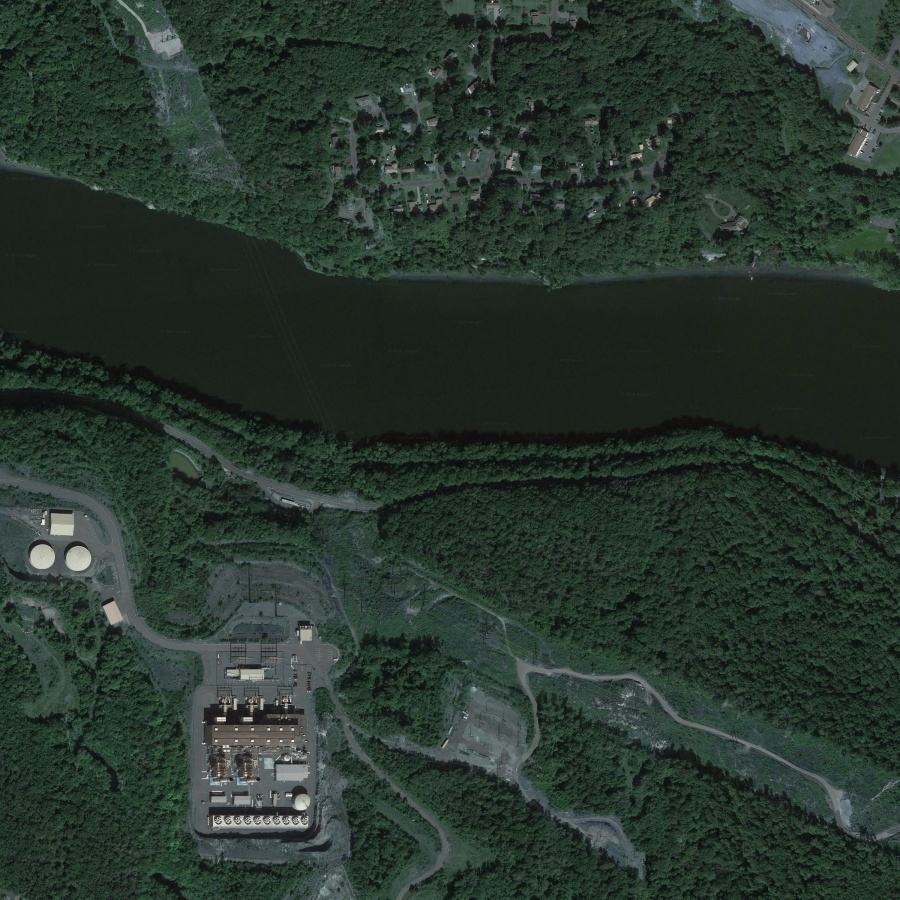PowerPlant: (195, 605, 341, 845)
